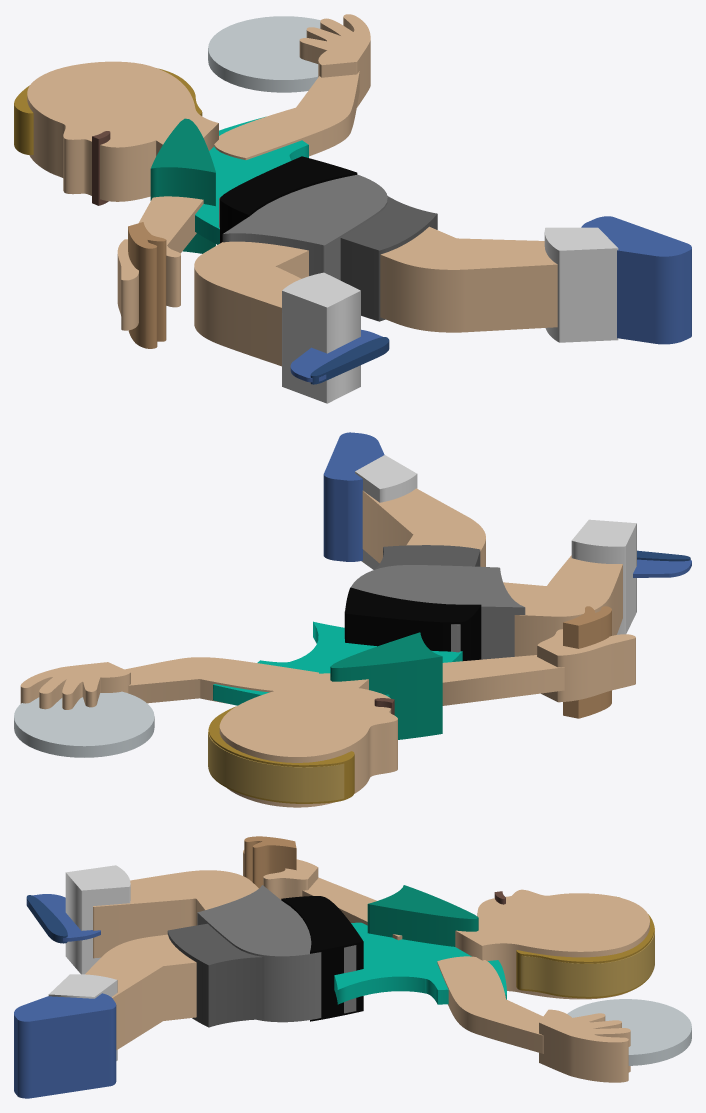
File: emoji_u1f93e_1f3fc_200d_2642.glb
3 renders of one model, top to bottom at view 1: azimuth 30°, elevation 25°; view 2: azimuth 150°, elevation 25°; view 3: azimuth 270°, elevation 25°, orthographic. The views are drawn at different scales.
Visible parts, largest first — view 1: emoji_u1f93e_1f3fc_200d_2642; view 2: emoji_u1f93e_1f3fc_200d_2642; view 3: emoji_u1f93e_1f3fc_200d_2642.
Boxes of the visible parts, <box> form: emoji_u1f93e_1f3fc_200d_2642: <box>14,14,691,403</box>; emoji_u1f93e_1f3fc_200d_2642: <box>14,432,691,807</box>; emoji_u1f93e_1f3fc_200d_2642: <box>14,836,691,1098</box>.
Size of the model in its own units: 0.0225 by 0.0048 by 0.0336.
